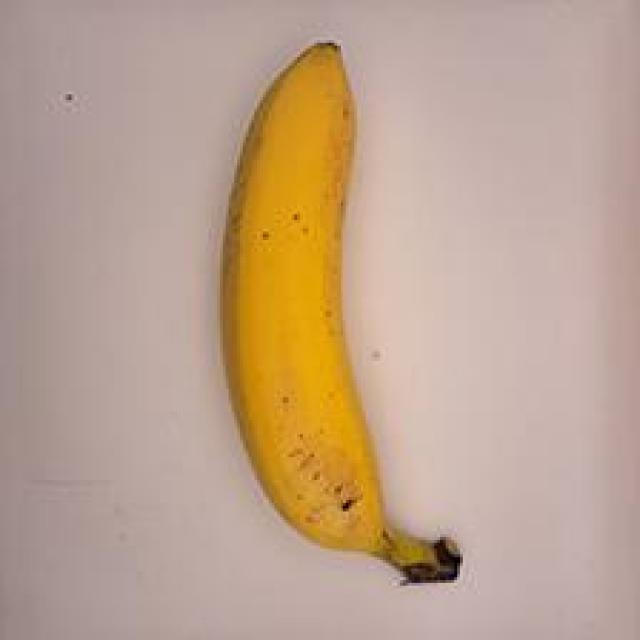Ripe: (158, 31, 511, 606)
